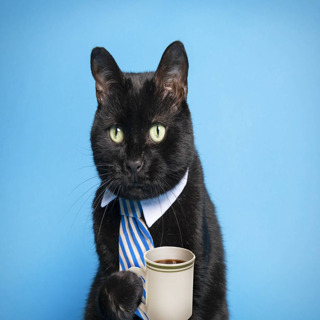gato: (48, 32, 242, 248)
